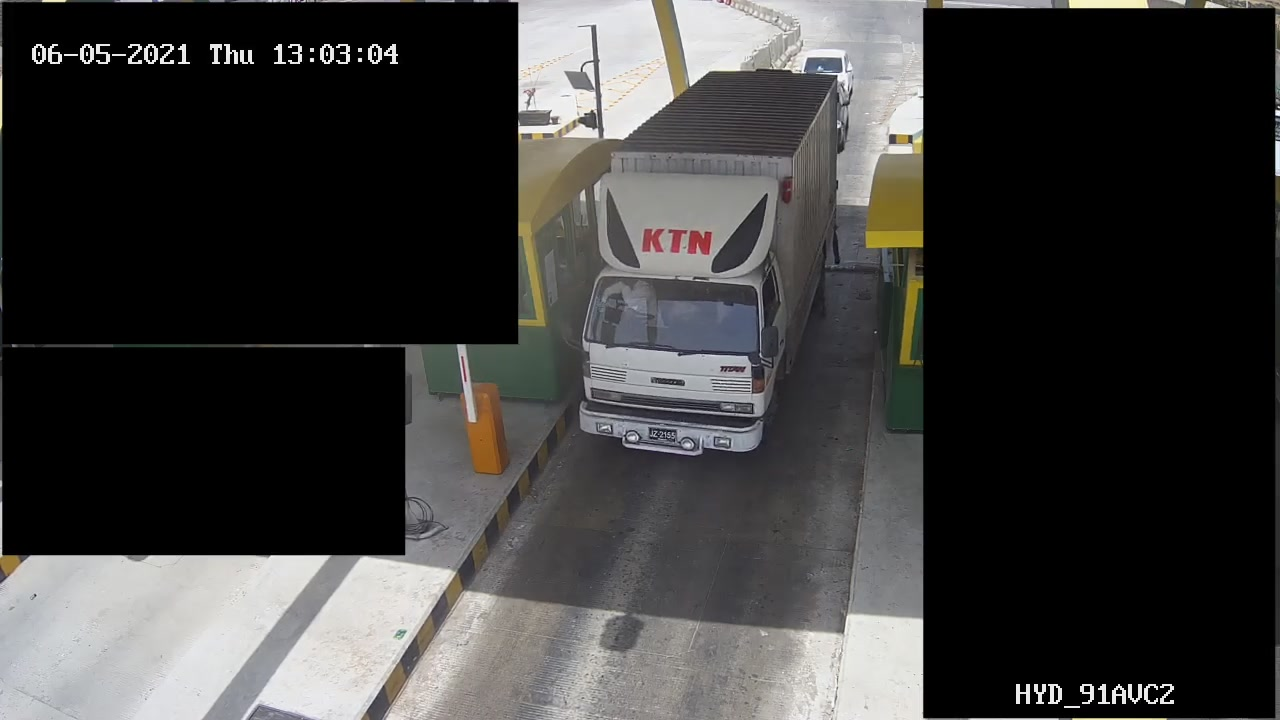F3: (574, 65, 845, 465)
